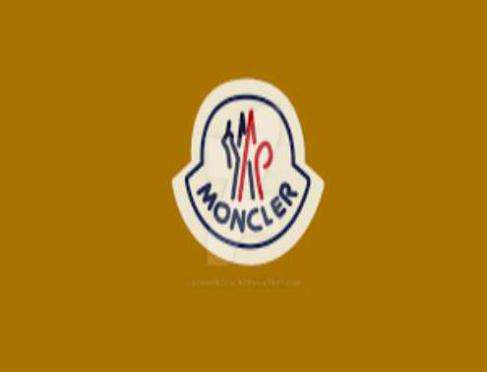MONCLER: (218, 105, 277, 202)
